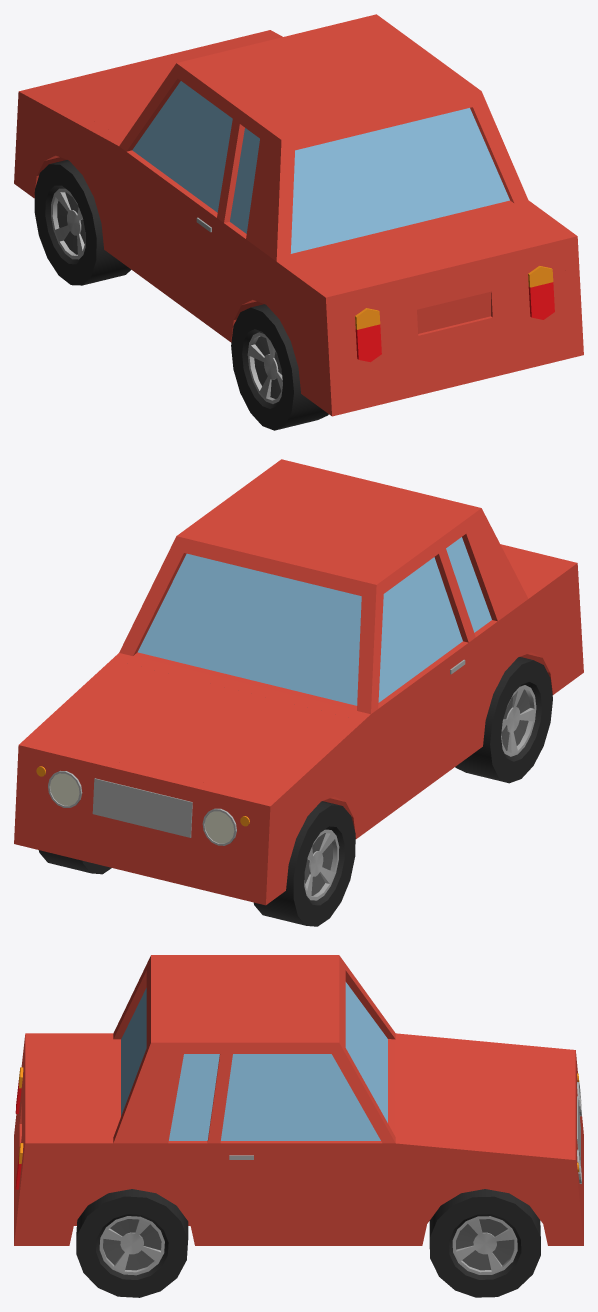
File: RedVelvet.fbx
3 views of the same model, one above another, from view 1: azimuth 30°, elevation 25°; view 2: azimuth 150°, elevation 25°; view 3: azimuth 270°, elevation 25° (orthographic). The views are drawn at different scales.
Parts seen in each view (by area): view 1: body, trunk_B, door_L, FL, BL, trunk_F; view 2: body, trunk_F, door_L, FL, BL, trunk_B, FR; view 3: body, door_R, trunk_F, BR, FR, trunk_B.
Boxes of the visible parts, <box> form: body: <box>14,14,583,416</box>; trunk_B: <box>301,211,567,372</box>; door_L: <box>126,81,232,316</box>; FL: <box>34,160,131,285</box>; BL: <box>231,304,328,430</box>; trunk_F: <box>39,37,268,137</box>; body: <box>14,459,583,905</box>; trunk_F: <box>39,663,348,796</box>; door_L: <box>378,557,468,807</box>; FL: <box>253,801,355,926</box>; BL: <box>455,657,552,783</box>; trunk_B: <box>500,544,563,587</box>; FR: <box>38,850,111,874</box>; body: <box>14,955,583,1245</box>; door_R: <box>220,1054,382,1232</box>; trunk_F: <box>409,1040,563,1152</box>; BR: <box>76,1189,188,1297</box>; FR: <box>429,1189,540,1297</box>; trunk_B: <box>15,1039,95,1201</box>.
Size of the model in its own units: 141 by 300 by 141.
